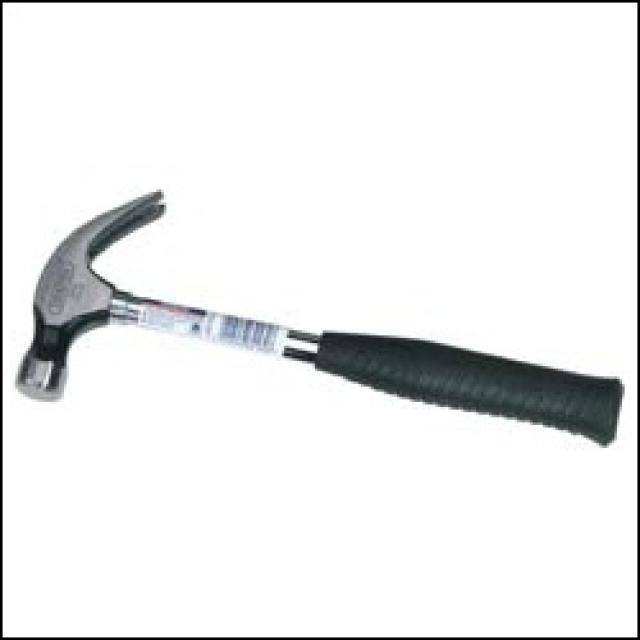hammer: (9, 187, 632, 456)
